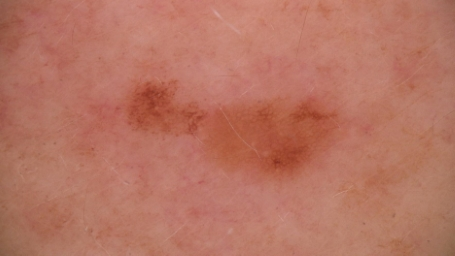nevus: (132, 79, 342, 172)
